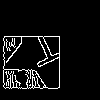T: (23, 22, 70, 76)
